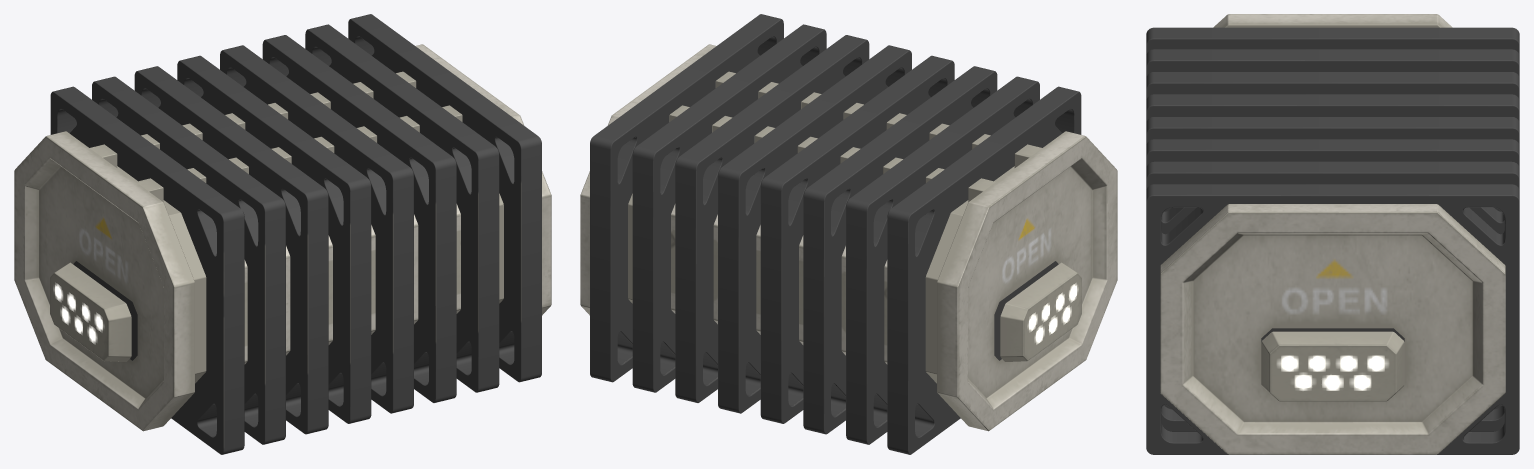
Rendered from SM_Crates3pt3-4.fbx.
3 views of the same model, side by side, from view 1: azimuth 30°, elevation 25°; view 2: azimuth 150°, elevation 25°; view 3: azimuth 270°, elevation 25° (orthographic). The views are drawn at different scales.
Parts seen in each view (by area): view 1: SM_Crates3pt3-4_LOD0; view 2: SM_Crates3pt3-4_LOD0; view 3: SM_Crates3pt3-4_LOD0.
Boxes of the visible parts, left/top/right/bottom form: SM_Crates3pt3-4_LOD0: left=14, top=14, right=551, bottom=454; SM_Crates3pt3-4_LOD0: left=580, top=14, right=1117, bottom=454; SM_Crates3pt3-4_LOD0: left=1146, top=14, right=1519, bottom=454.
Bounding box in the file's own units: 102 × 57.67 × 75.01.
1 material, 1 textured.
